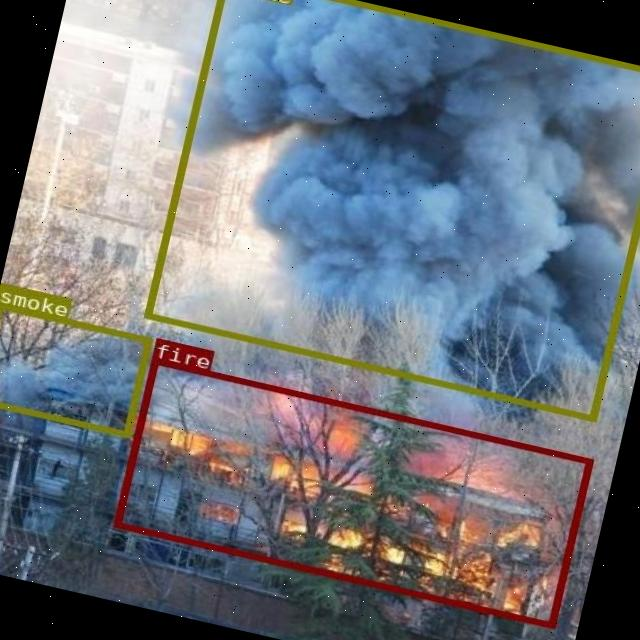fire: (112, 357, 590, 627)
smoke: (143, 0, 640, 419), (0, 302, 152, 436)
